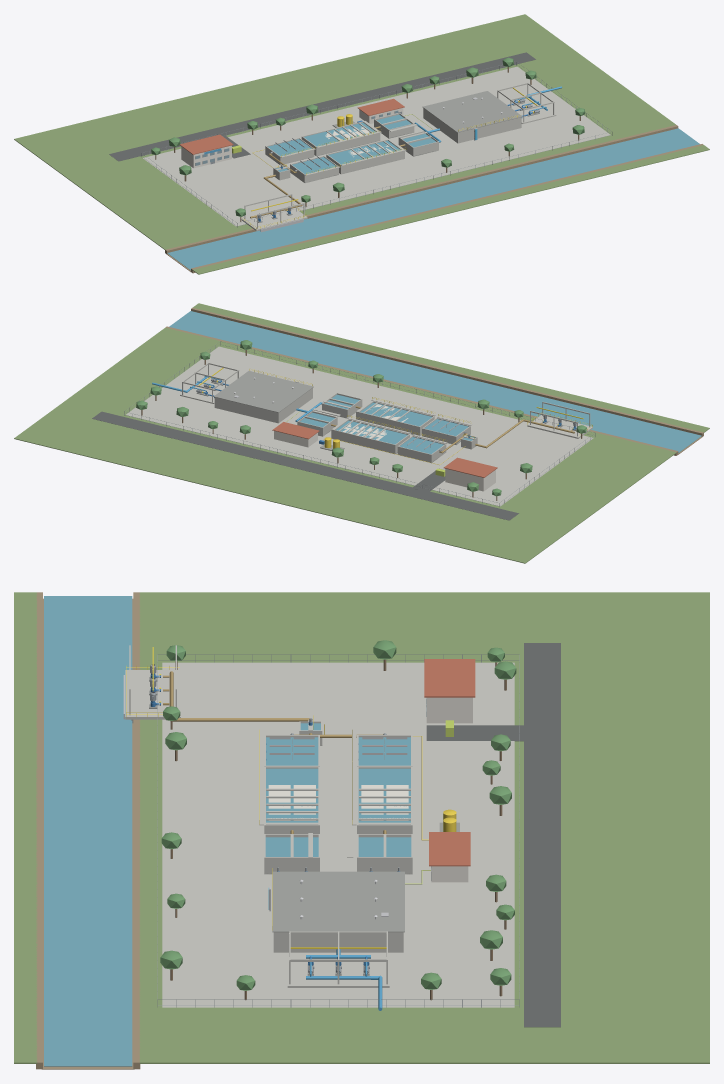
The model's file is ipa.glb.
The picture shows the model from 3 angles, top to bottom: view 1: azimuth 30°, elevation 25°; view 2: azimuth 150°, elevation 25°; view 3: azimuth 270°, elevation 25°; orthographic projection. The views are drawn at different scales.
Parts seen in each view (by area): view 1: Site · grass, Site · concrete, River water, Site · asphalt, Site · soil, RES-1 · concrete dark, Site · leaf, Site · motor grey, RES-1 · concrete, SD-2 · concrete, SD-1 · concrete, Intake · concrete (+10 smaller); view 2: Site · grass, Site · concrete, River water, Site · asphalt, Site · soil, RES-1 · concrete dark, Site · leaf, Site · motor grey, SD-2 · concrete, RES-1 · concrete, SD-1 · concrete, Intake · concrete (+10 smaller); view 3: Site · grass, Site · concrete, River water, Site · asphalt, RES-1 · concrete dark, Site · soil, Site · leaf, Distribution house · concrete, RES-1 · concrete, Intake · concrete, Site · motor grey, SD-2 · concrete (+11 smaller).
Part boxes in pixels (x1,y1,x2,y2): Site · grass: (14,14,709,274); Site · concrete: (142,66,610,226); River water: (167,128,699,270); Site · asphalt: (109,52,535,161); Site · soil: (165,125,703,273); RES-1 · concrete dark: (422,91,522,132); Site · leaf: (151,57,585,216); Site · motor grey: (141,61,612,227); RES-1 · concrete: (423,108,521,143); SD-2 · concrete: (301,121,381,156); SD-1 · concrete: (326,139,406,174); Intake · concrete: (241,194,307,230); Site · grass: (14,303,709,563); Site · concrete: (126,346,593,506); River water: (169,311,701,452); Site · asphalt: (92,411,518,520); Site · soil: (165,307,703,455); RES-1 · concrete dark: (213,371,313,412); Site · leaf: (136,340,586,496); Site · motor grey: (124,341,595,506); SD-2 · concrete: (331,417,411,453); RES-1 · concrete: (214,388,312,423); SD-1 · concrete: (356,399,435,435); Intake · concrete: (527,402,592,438); Site · grass: (14,592,709,1063); Site · concrete: (162,662,514,1007); River water: (44,596,132,1066); Site · asphalt: (426,643,560,1027); RES-1 · concrete dark: (272,871,404,932); Site · soil: (36,592,140,1069); Site · leaf: (160,640,516,990); Distribution house · concrete: (287,931,389,987); RES-1 · concrete: (273,932,403,952); Intake · concrete: (125,645,180,719); Site · motor grey: (157,654,519,1007); SD-2 · concrete: (352,765,412,833).
Bounding box in the file's own units: 240 × 9.76 × 150.
